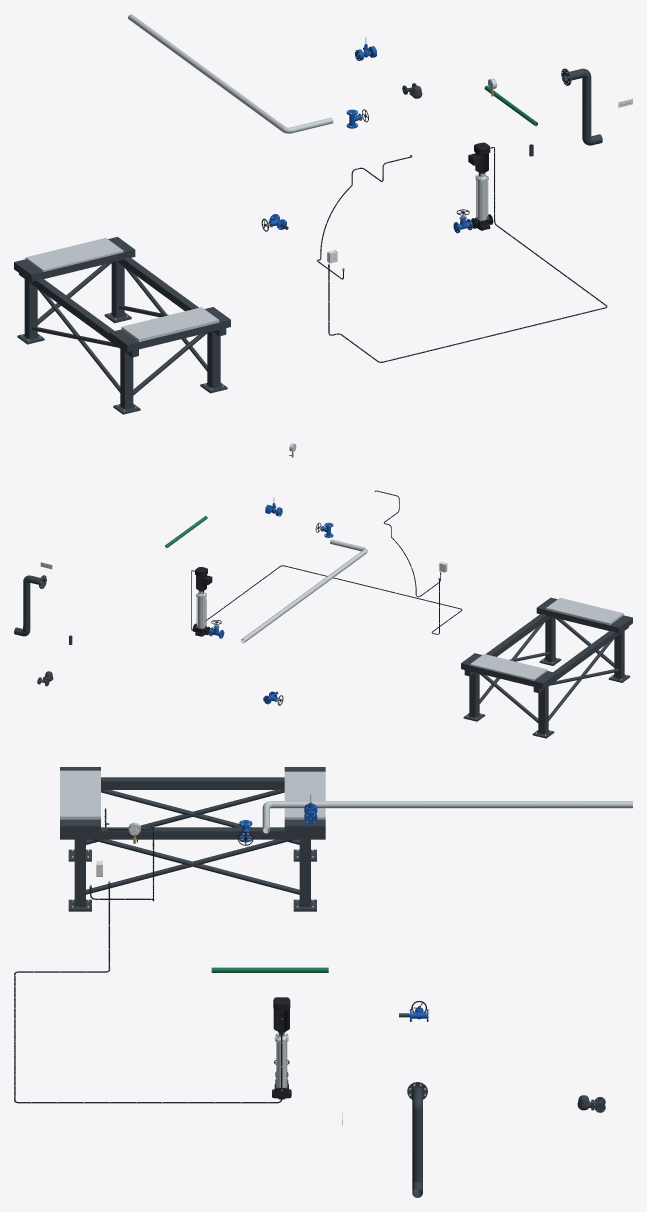
3 renders of one model, top to bottom at view 1: azimuth 30°, elevation 25°; view 2: azimuth 150°, elevation 25°; view 3: azimuth 270°, elevation 25°, orthographic. The views are drawn at different scales.
Parts seen in each view (by area): view 1: deaerator_support / dark, deaerator_support / steel, safety_vent_1 / steel, bdv_water_drain / dark, wiring_pump_2 / black; view 2: deaerator_support / dark, deaerator_support / steel, safety_vent_1 / steel, bdv_water_drain / dark, wiring_pump_2 / black; view 3: deaerator_support / dark, deaerator_support / steel, safety_vent_1 / steel, bdv_water_drain / dark, wiring_pump_2 / black, pump_delivery / green.
Boxes of the visible parts, <box> form: deaerator_support / dark: <box>14,237,230,414</box>; deaerator_support / steel: <box>21,238,223,411</box>; safety_vent_1 / steel: <box>128,14,333,133</box>; bdv_water_drain / dark: <box>561,68,602,145</box>; wiring_pump_2 / black: <box>328,147,607,362</box>; deaerator_support / dark: <box>461,597,632,738</box>; deaerator_support / steel: <box>466,598,626,735</box>; safety_vent_1 / steel: <box>241,539,367,643</box>; bdv_water_drain / dark: <box>14,575,46,636</box>; wiring_pump_2 / black: <box>191,565,462,634</box>; deaerator_support / dark: <box>60,767,325,911</box>; deaerator_support / steel: <box>60,770,325,907</box>; safety_vent_1 / steel: <box>262,801,632,833</box>; bdv_water_drain / dark: <box>407,1082,427,1197</box>; wiring_pump_2 / black: <box>14,885,282,1103</box>; pump_delivery / green: <box>211,967,328,972</box>.
Size of the model in its own units: 9.06 by 3.01 by 6.61.
